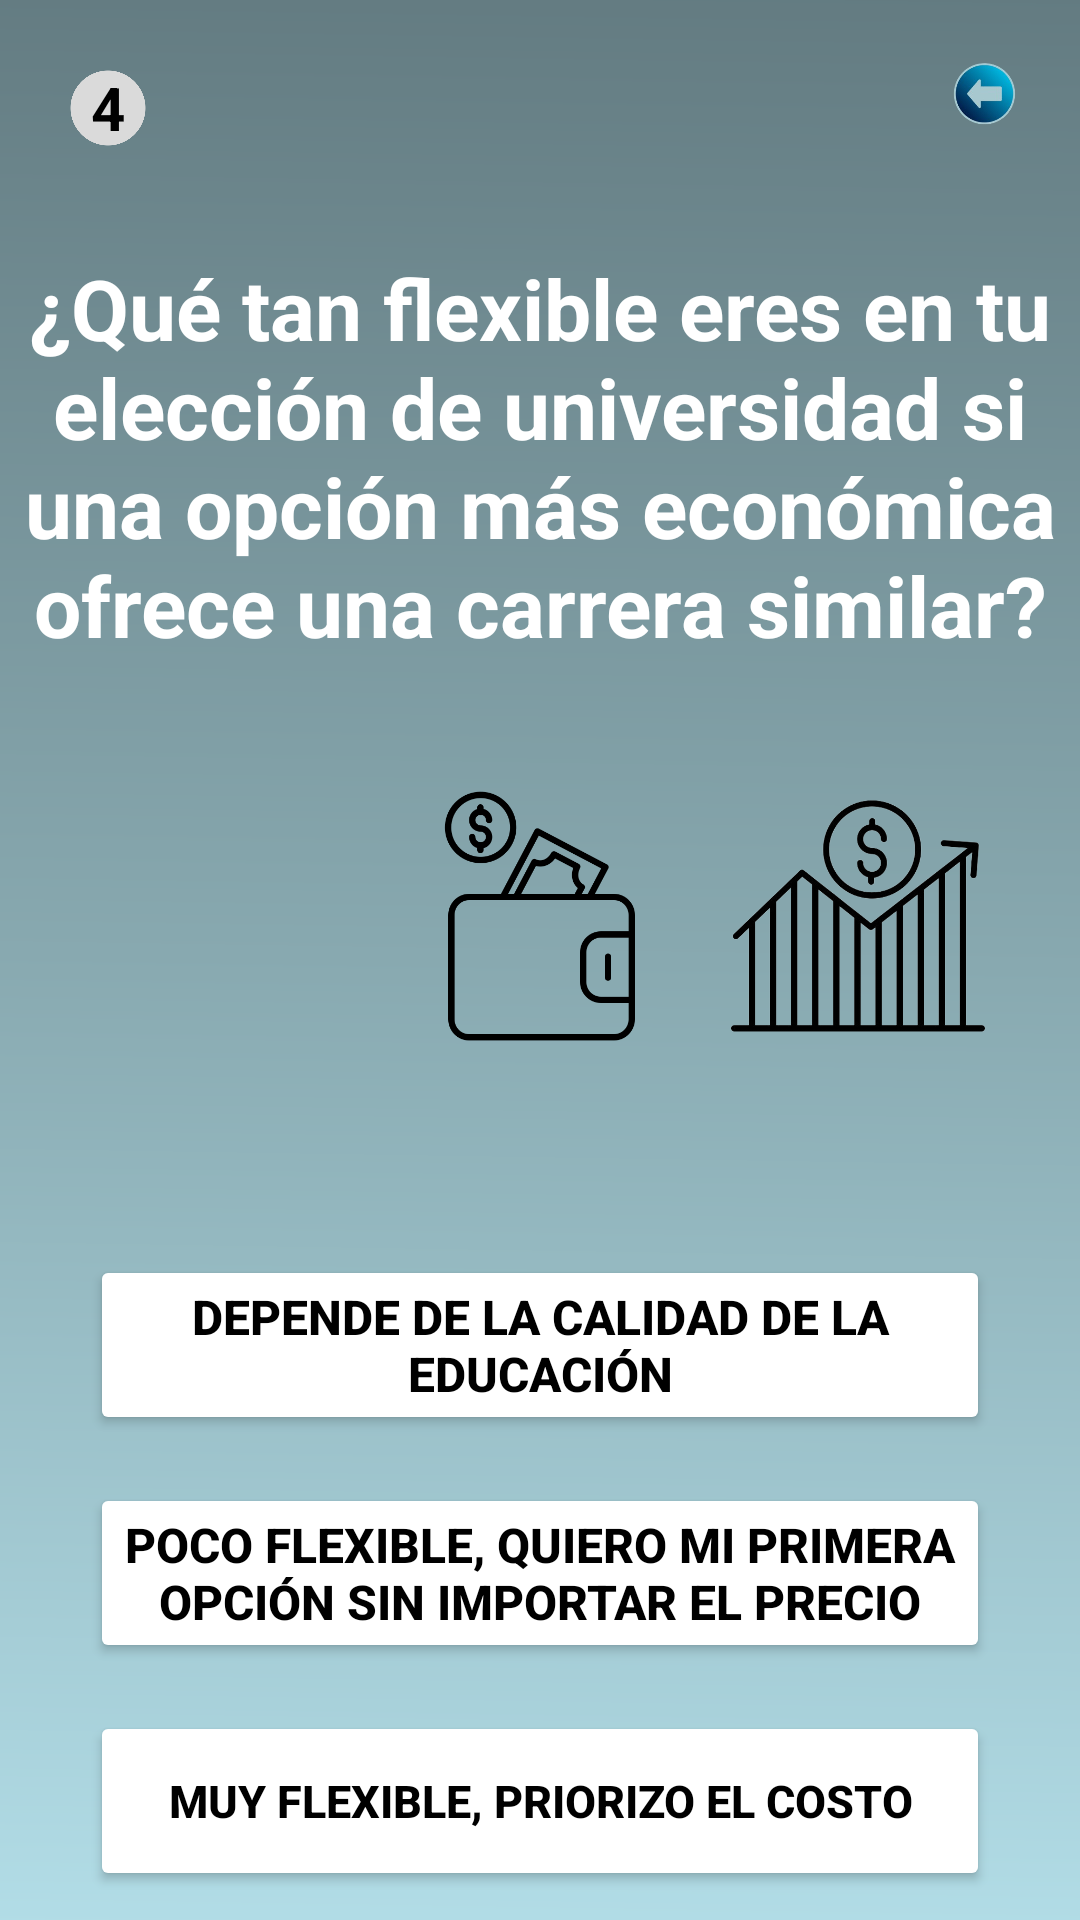

Screen size 1080 x 1920. Icon name, then its box in pixels as (x1, y1, x2, y2):
cartera: (444, 791, 635, 1041)
crecimiento: (731, 800, 985, 1032)
retroceso: (954, 63, 1015, 124)
